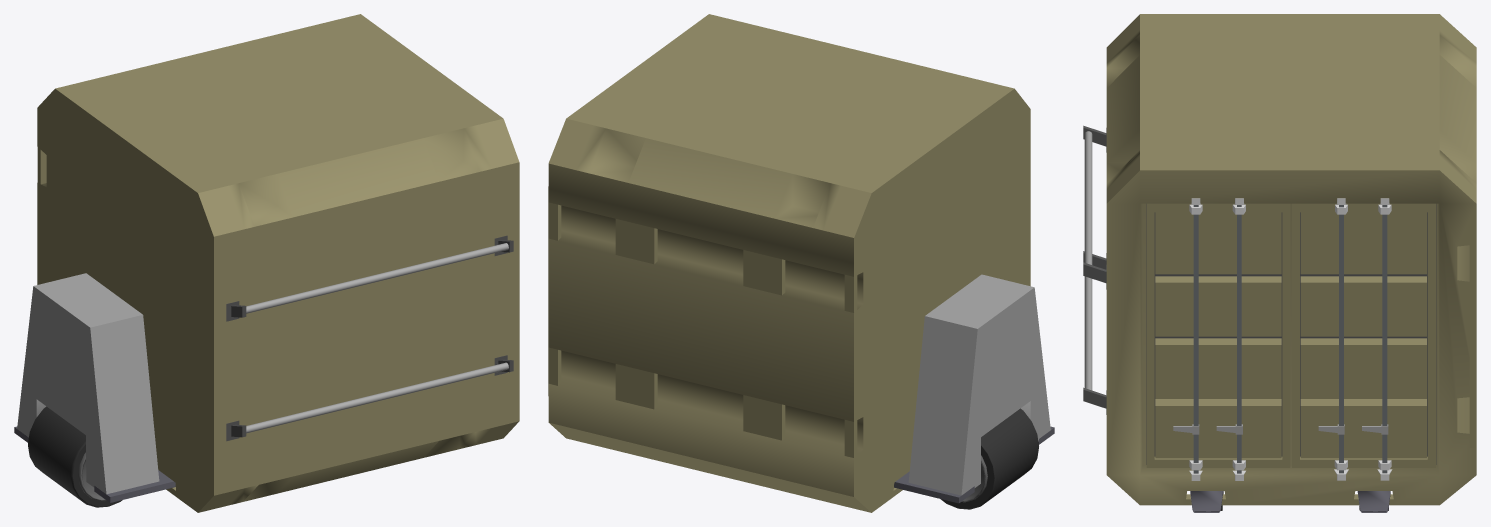
The model's file is Cargo (L).fbx.
3 renders of one model, left to right at view 1: azimuth 30°, elevation 25°; view 2: azimuth 150°, elevation 25°; view 3: azimuth 270°, elevation 25°, orthographic. The views are drawn at different scales.
Parts seen in each view (by area): view 1: polySurface51, polySurface58; view 2: polySurface51, polySurface58; view 3: polySurface51, polySurface58.
Boxes of the visible parts, bbox=[...] form: polySurface51: bbox=[37, 14, 519, 512]; polySurface58: bbox=[14, 273, 175, 507]; polySurface51: bbox=[548, 14, 1030, 512]; polySurface58: bbox=[894, 274, 1054, 509]; polySurface51: bbox=[1083, 14, 1476, 505]; polySurface58: bbox=[1190, 491, 1390, 512].
Bounding box in the file's own units: 10.88 × 8.56 × 8.51.
